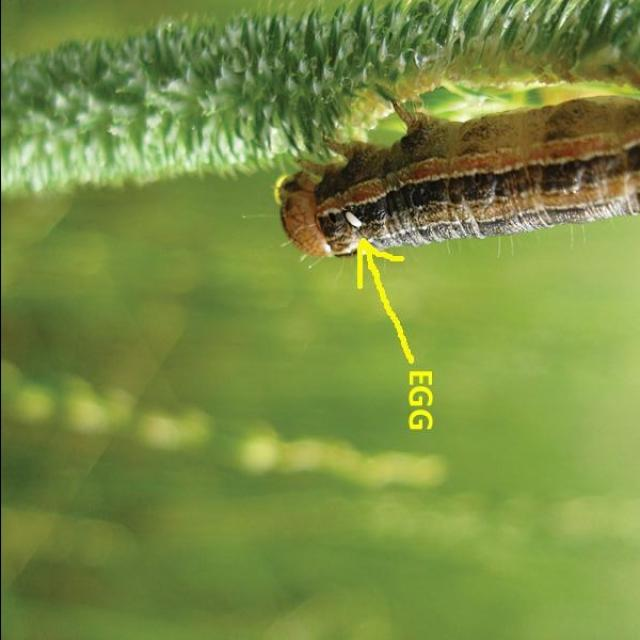army worm: (272, 99, 640, 277)
